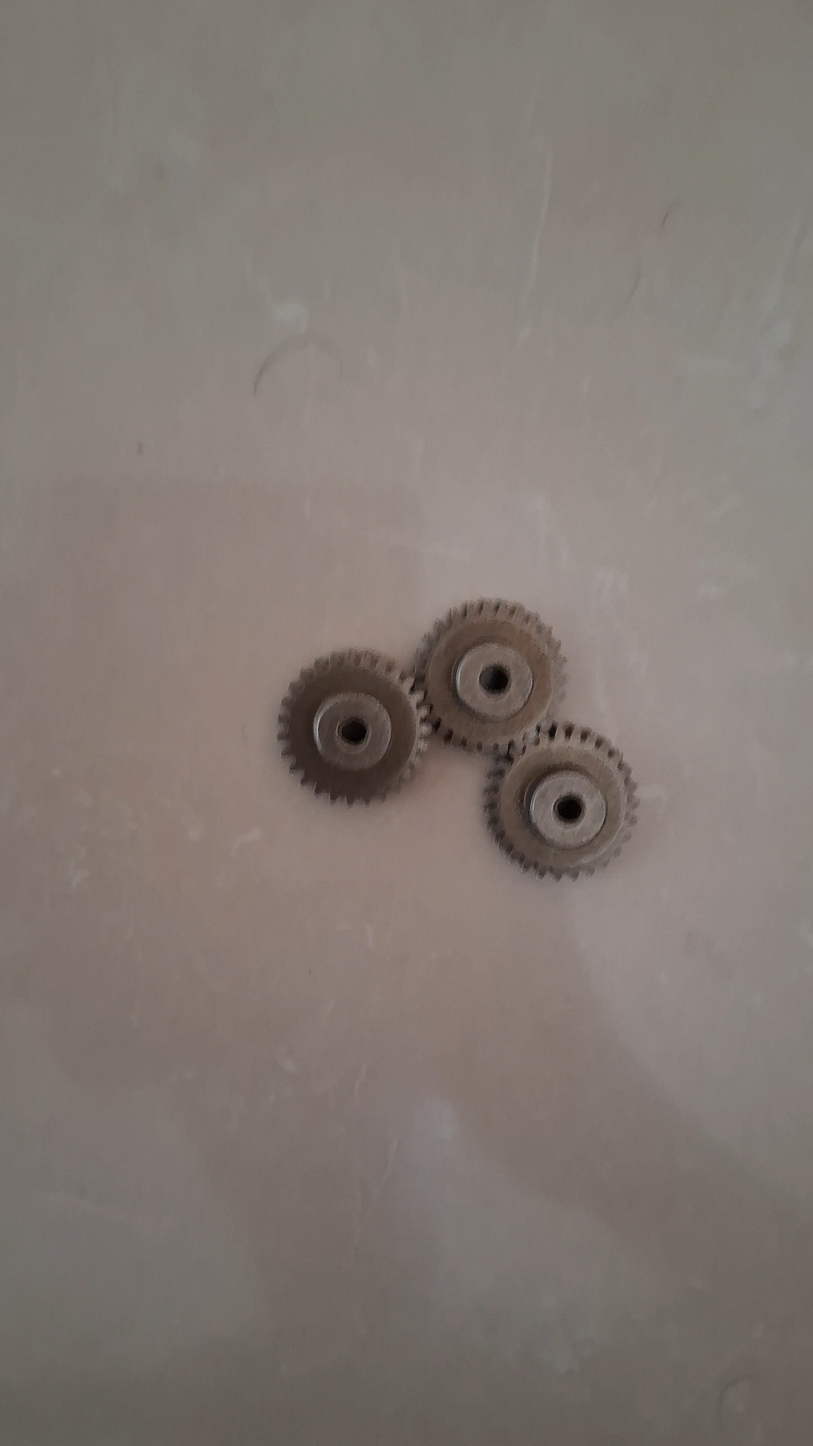spur gear: (278, 651, 430, 804), (485, 723, 636, 877), (416, 599, 563, 753)
